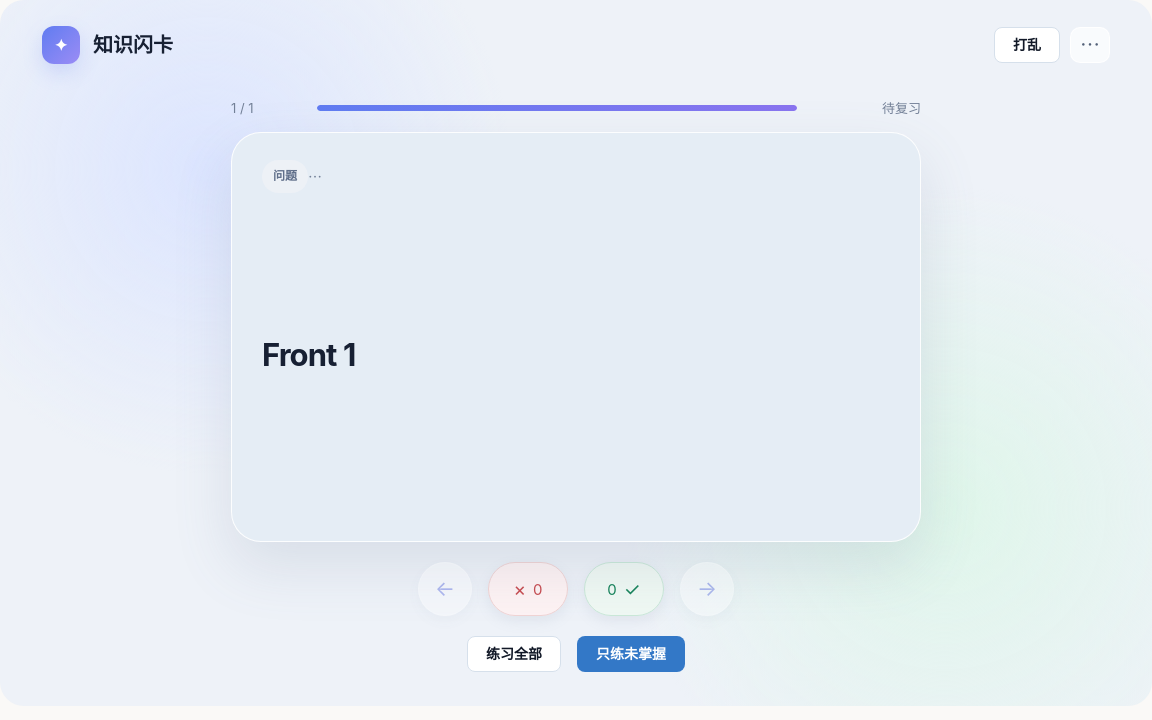
Test: generated content renderers › shows the flashcard title without the workspace kicker
The width and height of the screenshot is (1152, 720).
Expected: the heading "知识闪卡" is shown, [93,33,173,57]
Expected: the button with aria-label "打乱卡片" is shown, [994,27,1060,63]
Click the button with aria-label "翻转查看答案" at (576, 337), box [231,132,921,542]
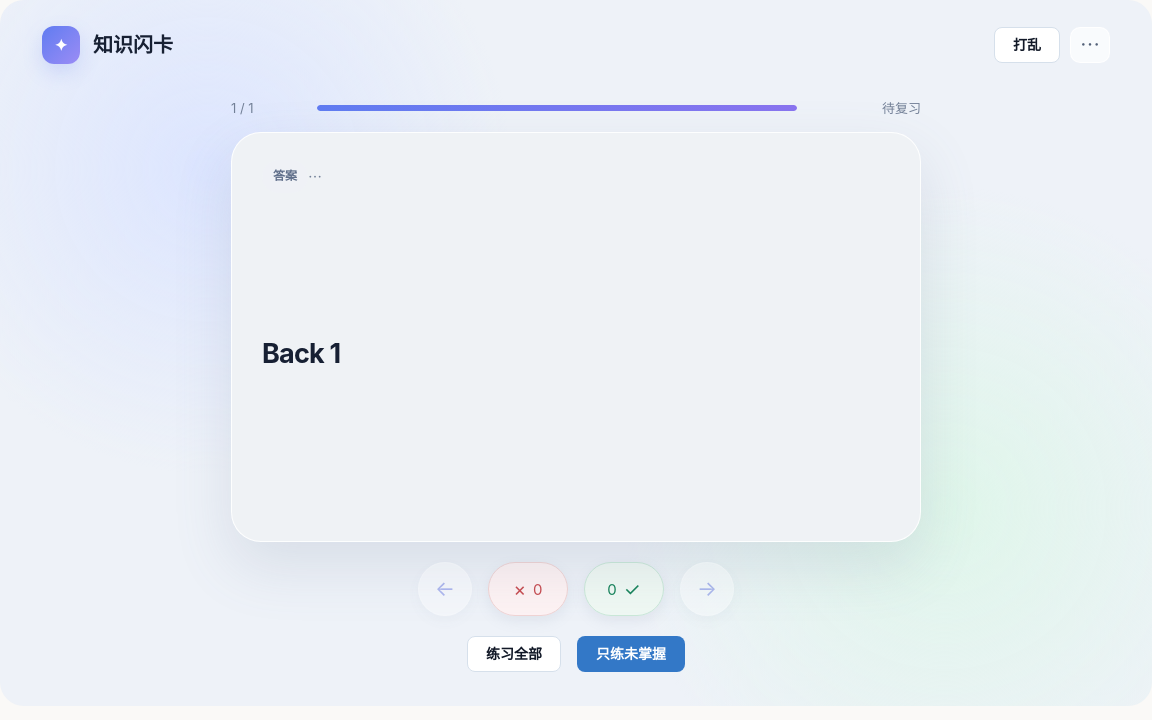
Result: the heading "Back 1" is shown at [262,336,340,373]
